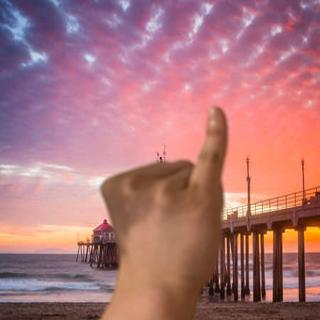FINE: (94, 102, 235, 298)
